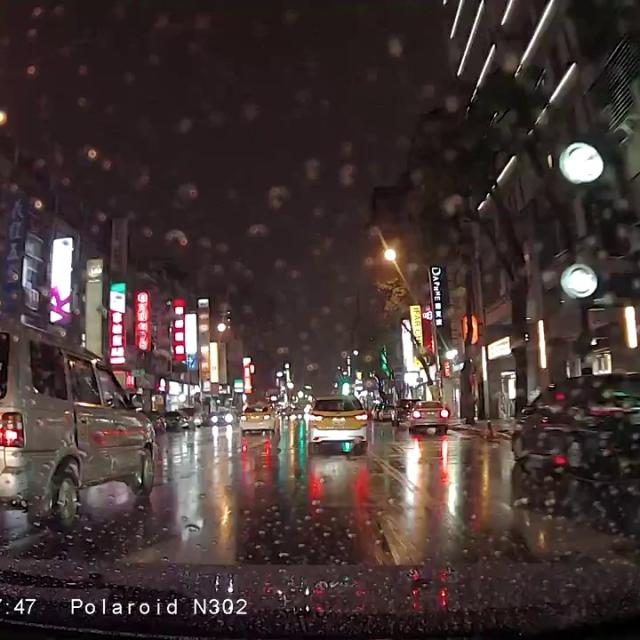Car: (0, 314, 161, 529), (503, 371, 639, 495), (300, 391, 369, 452), (410, 398, 449, 435), (237, 402, 282, 433), (391, 397, 421, 423), (144, 410, 166, 432), (162, 409, 187, 426), (376, 401, 394, 421)
